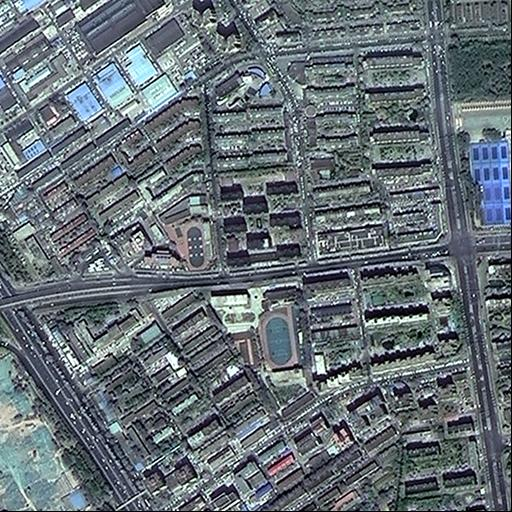school: (156, 190, 214, 274)
